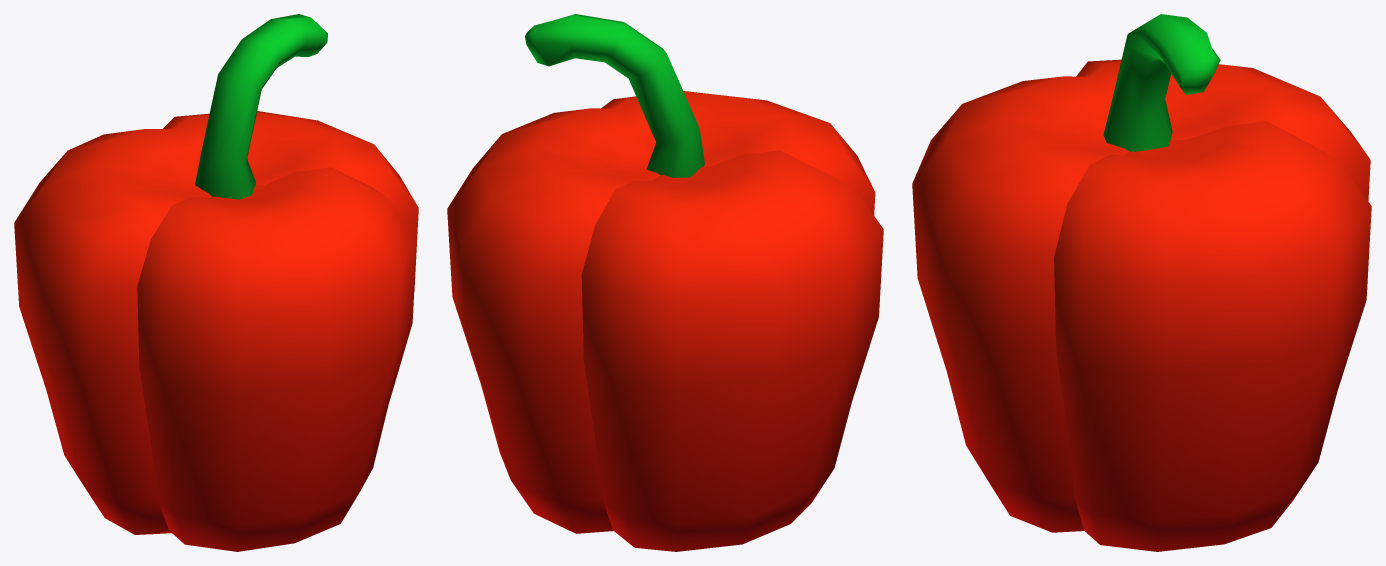
Rendered from Farm_Crop_Capsicum_01.fbx.
3 renders of one model, left to right at view 1: azimuth 30°, elevation 25°; view 2: azimuth 150°, elevation 25°; view 3: azimuth 270°, elevation 25°, orthographic. The views are drawn at different scales.
Parts seen in each view (by area): view 1: Farm_Crop_Capsicum_01; view 2: Farm_Crop_Capsicum_01; view 3: Farm_Crop_Capsicum_01.
Boxes of the visible parts, x1,y1,x2,y2 form: Farm_Crop_Capsicum_01: [14, 14, 418, 551]; Farm_Crop_Capsicum_01: [447, 14, 883, 551]; Farm_Crop_Capsicum_01: [912, 14, 1371, 551].
Size of the model in its own units: 39.65 by 48.15 by 38.86.
